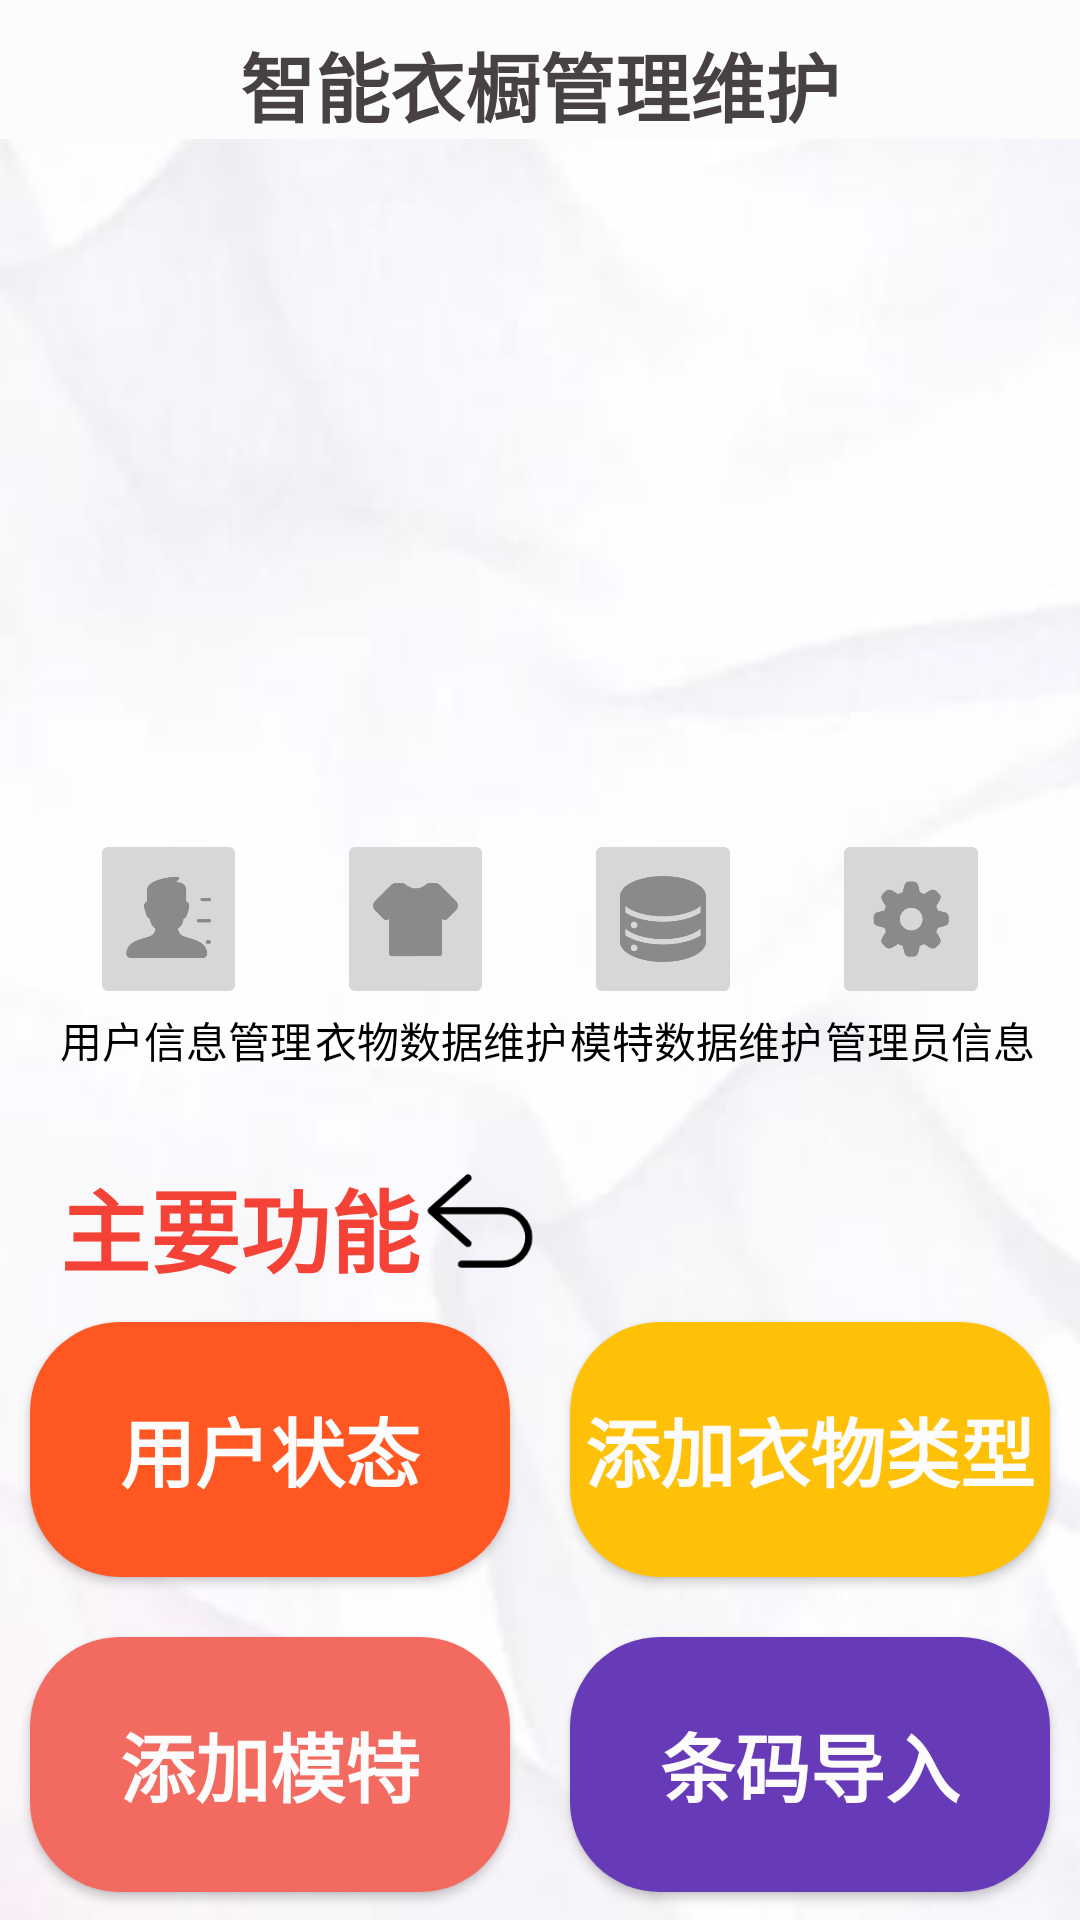

Named icons in this screenshot (1080px x 1920px) and their bounding boxes, (x1,y1,x2,y2):
admin clothes: (349,847,482,991)
admin data: (596,847,730,991)
admin setting: (844,847,978,991)
admin user: (102,847,235,991)
back: (427,1174,533,1268)
